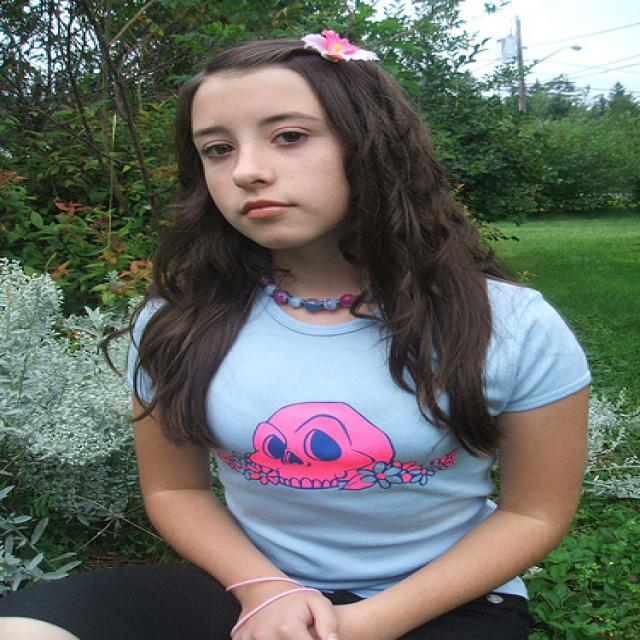T-shirt: (120, 265, 596, 599)
